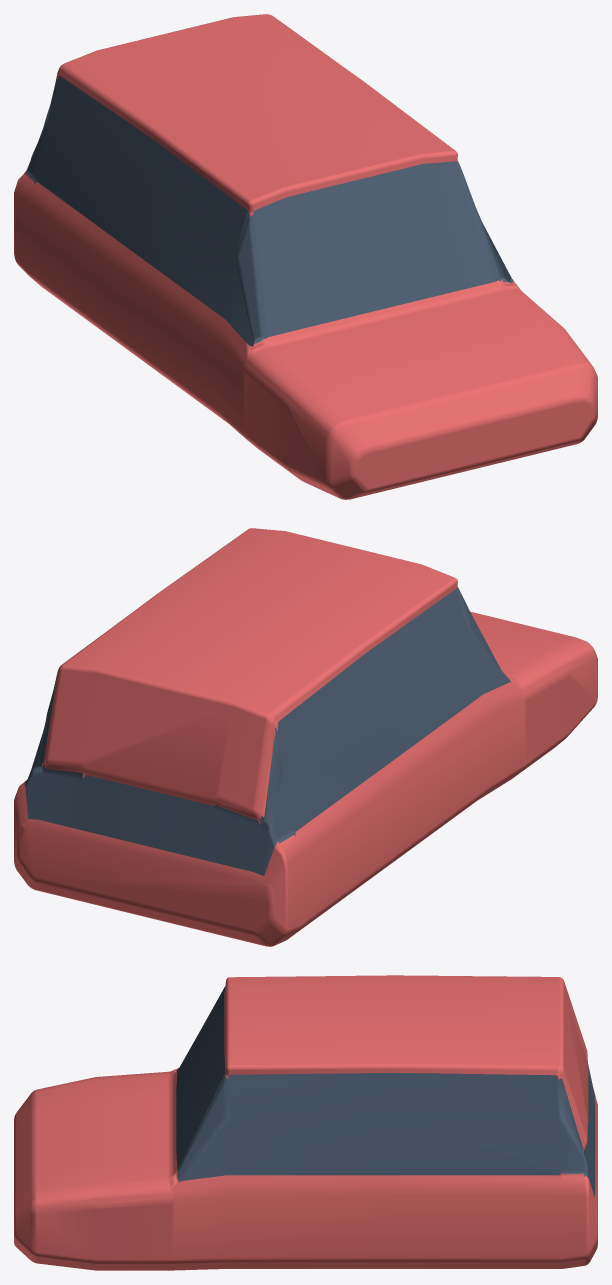
Rendered from jelajah_shell.fbx.
The picture shows the model from 3 angles, top to bottom: view 1: azimuth 30°, elevation 25°; view 2: azimuth 150°, elevation 25°; view 3: azimuth 270°, elevation 25°; orthographic projection. The views are drawn at different scales.
Visible parts, largest first — view 1: ShellBody, ShellGlass; view 2: ShellBody, ShellGlass; view 3: ShellBody, ShellGlass.
Part boxes in pixels (<box>): ShellBody: <box>14,14,597,499</box>; ShellGlass: <box>25,75,512,346</box>; ShellBody: <box>14,528,597,946</box>; ShellGlass: <box>24,587,510,875</box>; ShellBody: <box>14,975,597,1270</box>; ShellGlass: <box>176,986,595,1197</box>.
Size of the model in its own units: 7.4 by 5.75 by 15.
